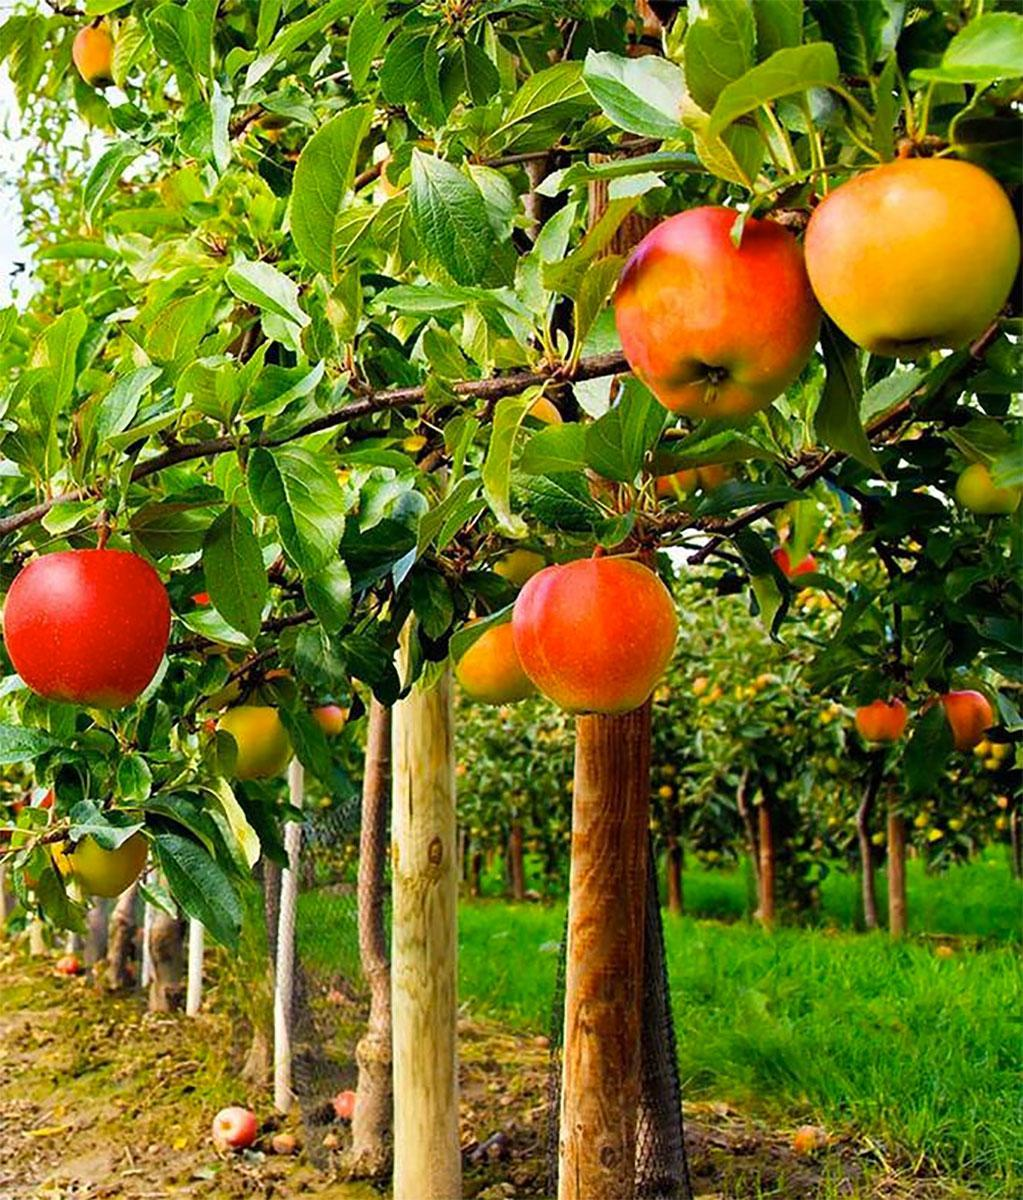apple: (609, 208, 817, 432), (803, 156, 1019, 352), (2, 548, 170, 707), (514, 561, 674, 718), (63, 834, 148, 899), (953, 462, 1018, 519), (938, 692, 992, 750)
